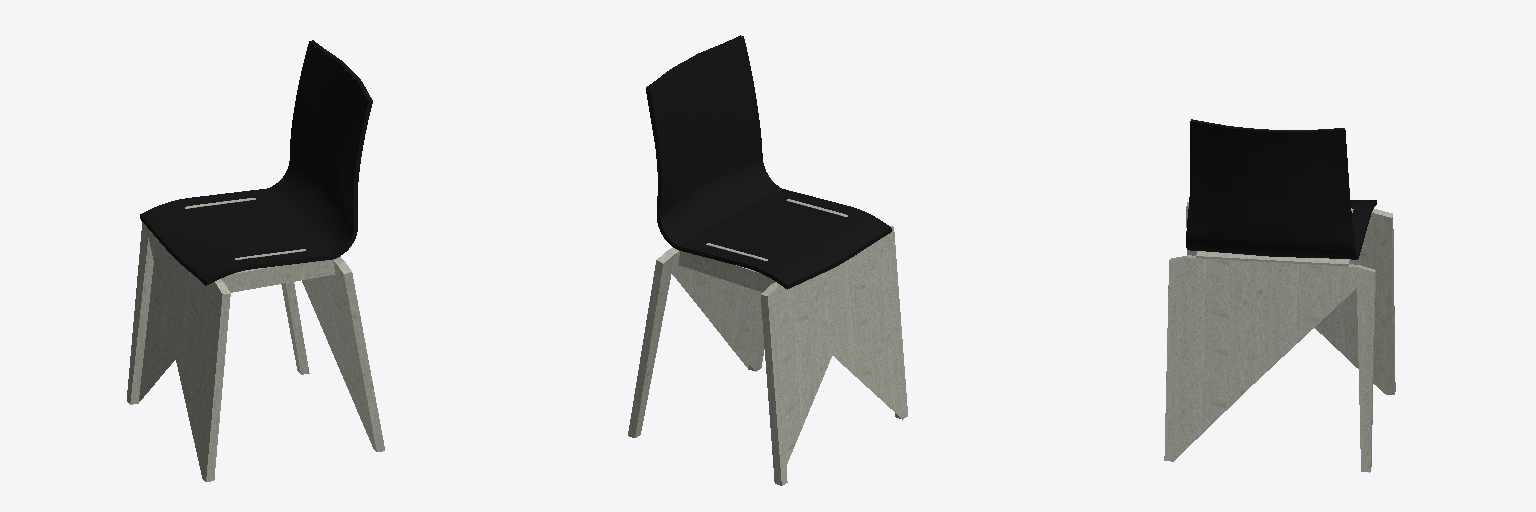
3 views of the same model, side by side, from view 1: azimuth 30°, elevation 25°; view 2: azimuth 150°, elevation 25°; view 3: azimuth 270°, elevation 25° (orthographic).
Visible parts, largest first — view 1: Mesh3 Difference2 Krzeslo_1700_1 Component_8_1 Model, Mesh2 Difference1 Krzeslo_1700_1 Component_8_1 Model, Mesh1 Difference Krzeslo_1700_1 Component_8_1 Model, Mesh4 Difference3 Krzeslo_1700_1 Component_8_1 Model; view 2: Mesh3 Difference2 Krzeslo_1700_1 Component_8_1 Model, Mesh2 Difference1 Krzeslo_1700_1 Component_8_1 Model, Mesh1 Difference Krzeslo_1700_1 Component_8_1 Model, Mesh4 Difference3 Krzeslo_1700_1 Component_8_1 Model; view 3: Mesh1 Difference Krzeslo_1700_1 Component_8_1 Model, Mesh3 Difference2 Krzeslo_1700_1 Component_8_1 Model, Mesh2 Difference1 Krzeslo_1700_1 Component_8_1 Model, Mesh4 Difference3 Krzeslo_1700_1 Component_8_1 Model.
Boxes of the visible parts, x1=… form: Mesh3 Difference2 Krzeslo_1700_1 Component_8_1 Model: x1=140, y1=40, x2=372, y2=285; Mesh2 Difference1 Krzeslo_1700_1 Component_8_1 Model: x1=127, y1=222, x2=230, y2=481; Mesh1 Difference Krzeslo_1700_1 Component_8_1 Model: x1=281, y1=257, x2=384, y2=451; Mesh4 Difference3 Krzeslo_1700_1 Component_8_1 Model: x1=221, y1=256, x2=340, y2=292; Mesh3 Difference2 Krzeslo_1700_1 Component_8_1 Model: x1=646, y1=35, x2=891, y2=289; Mesh2 Difference1 Krzeslo_1700_1 Component_8_1 Model: x1=761, y1=226, x2=907, y2=485; Mesh1 Difference Krzeslo_1700_1 Component_8_1 Model: x1=628, y1=248, x2=764, y2=437; Mesh4 Difference3 Krzeslo_1700_1 Component_8_1 Model: x1=678, y1=251, x2=774, y2=291; Mesh1 Difference Krzeslo_1700_1 Component_8_1 Model: x1=1164, y1=255, x2=1375, y2=472; Mesh3 Difference2 Krzeslo_1700_1 Component_8_1 Model: x1=1186, y1=119, x2=1376, y2=259; Mesh2 Difference1 Krzeslo_1700_1 Component_8_1 Model: x1=1186, y1=202, x2=1395, y2=394; Mesh4 Difference3 Krzeslo_1700_1 Component_8_1 Model: x1=1196, y1=251, x2=1354, y2=266.
Bounding box in the file's own units: 10.35 × 17.69 × 10.9.
Materials: 3 (1 with a texture image).